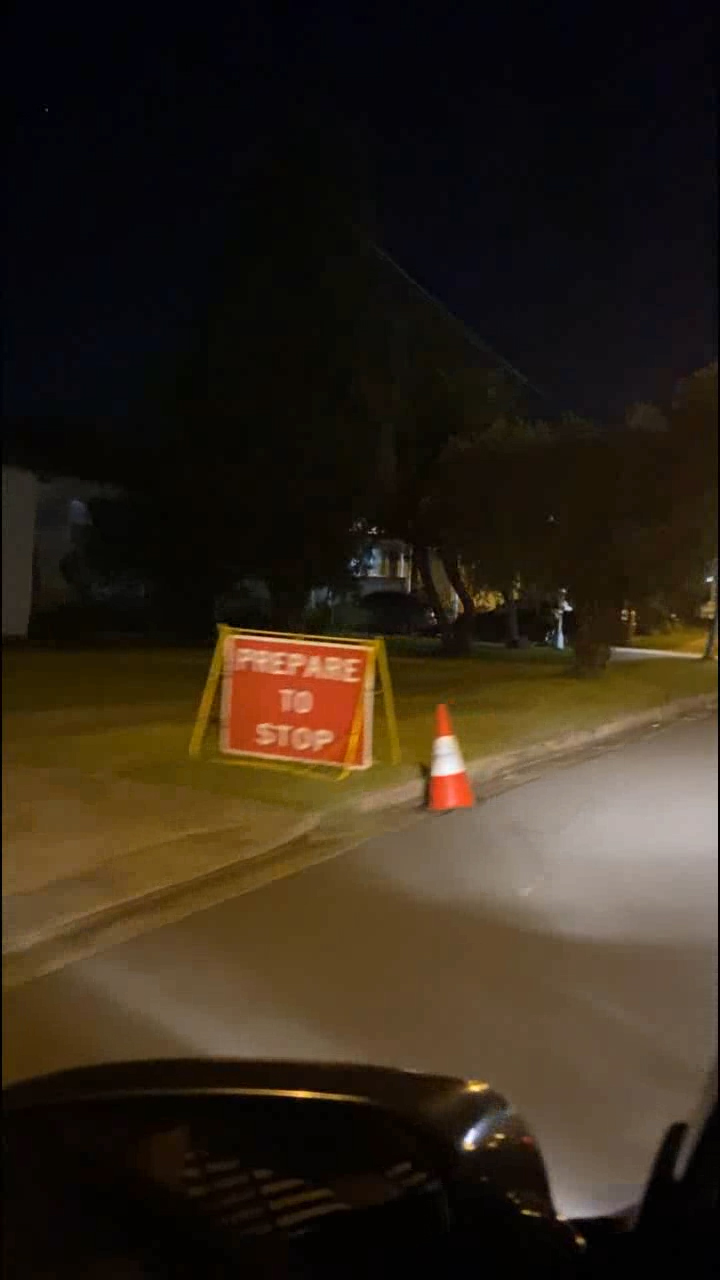prepare to stop board: (193, 626, 386, 773)
road cone: (427, 697, 478, 817)
